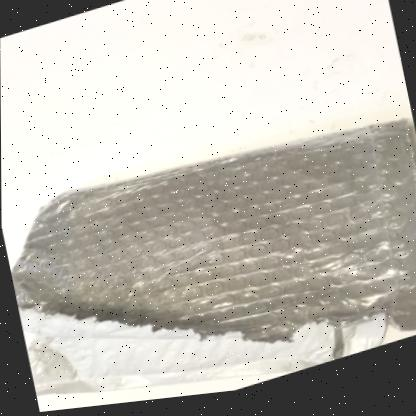Plastic: (10, 128, 416, 396)
